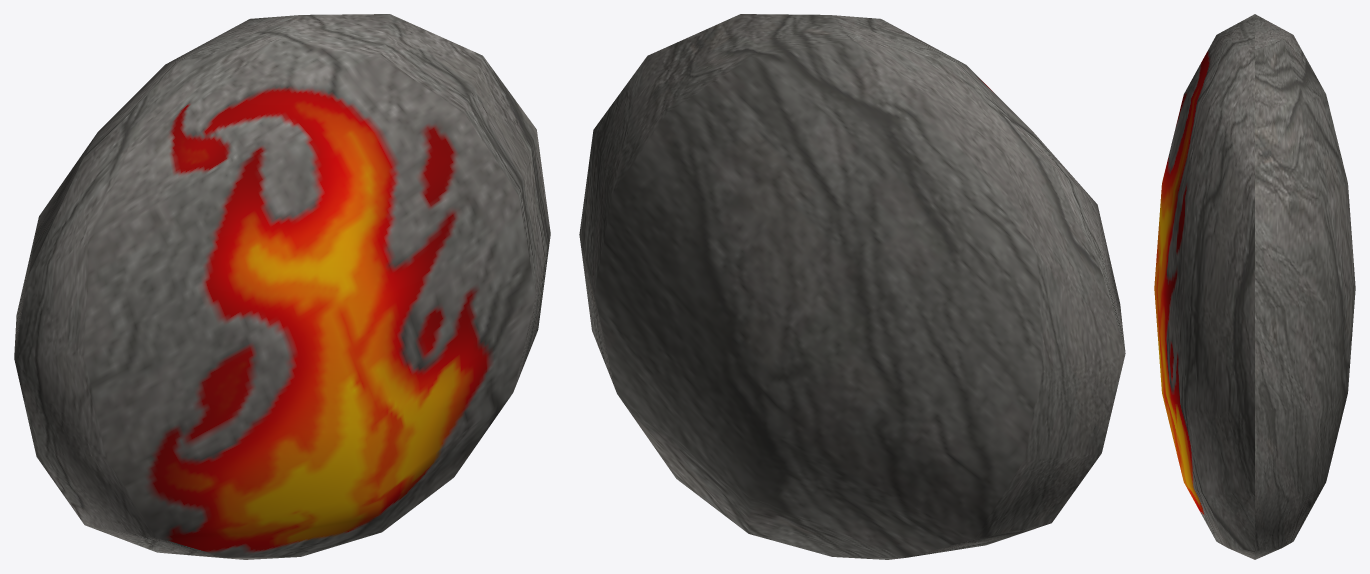
Rendered from TV_Rune.fbx.
3 views of the same model, side by side, from view 1: azimuth 30°, elevation 25°; view 2: azimuth 150°, elevation 25°; view 3: azimuth 270°, elevation 25° (orthographic). The views are drawn at different scales.
Visible parts, largest first — view 1: Rune_Model; view 2: Rune_Model; view 3: Rune_Model.
Boxes of the visible parts, <box> form: Rune_Model: <box>14,14,550,559</box>; Rune_Model: <box>579,14,1125,559</box>; Rune_Model: <box>1154,14,1355,559</box>.
Size of the model in its own units: 44.96 by 42.39 by 16.13.
Materials: 1 (1 with a texture image).
